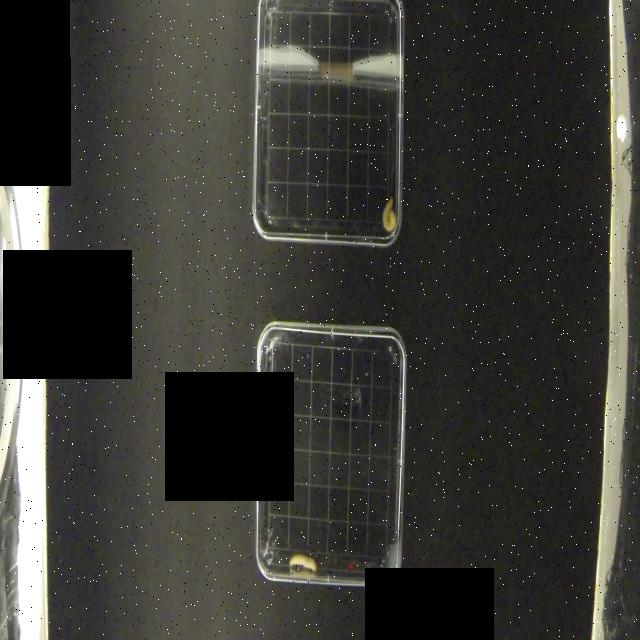larva: (288, 549, 319, 575), (383, 197, 398, 234)
